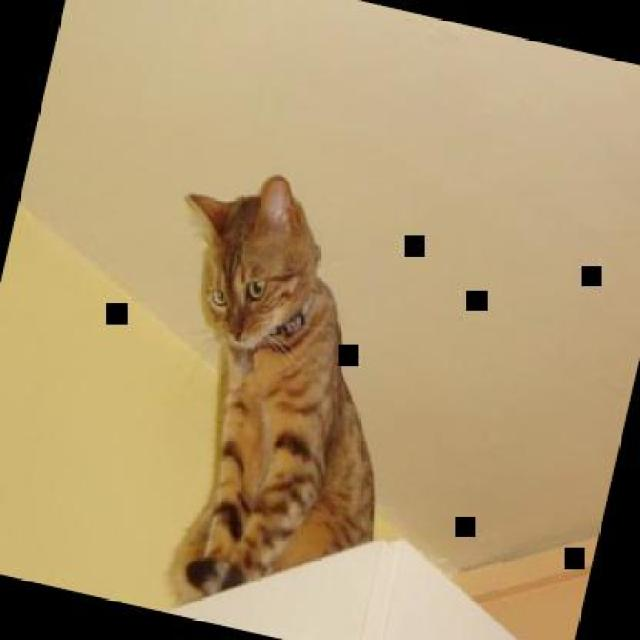cat: (98, 155, 450, 638)
